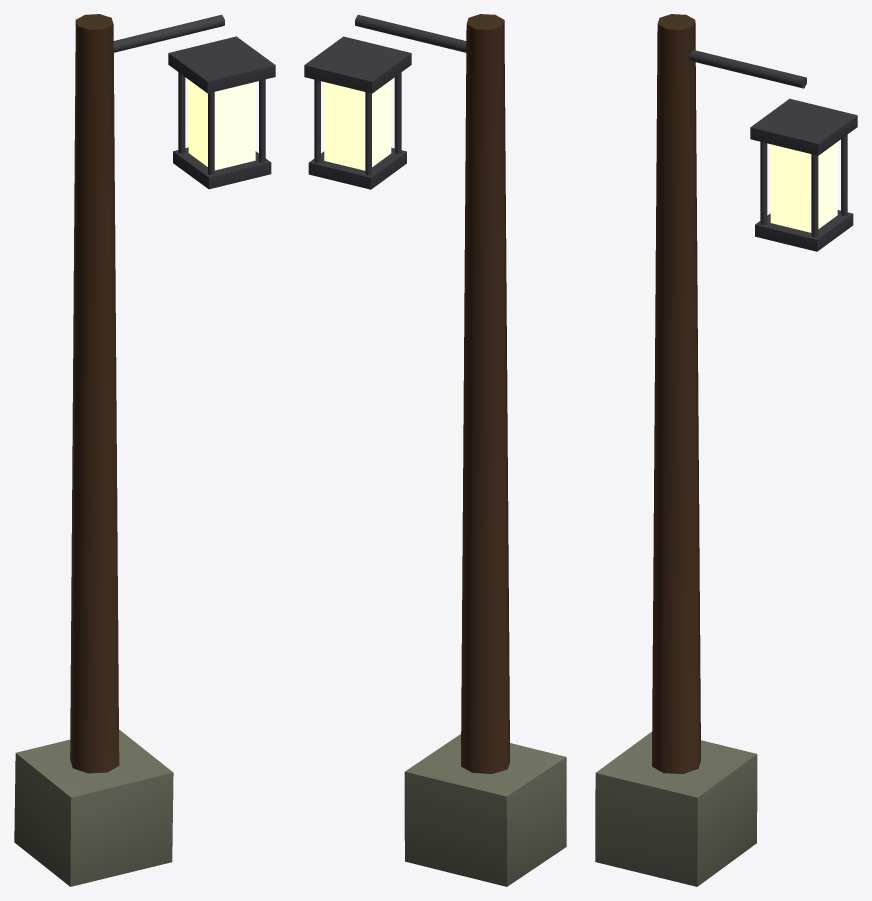
The model's file is lamp_post.glb.
3 views of the same model, side by side, from view 1: azimuth 30°, elevation 25°; view 2: azimuth 150°, elevation 25°; view 3: azimuth 330°, elevation 25° (orthographic).
Parts seen in each view (by area): view 1: lamp_post; view 2: lamp_post; view 3: lamp_post.
Boxes of the visible parts, box(x1,y1,x2,y2) form: lamp_post: box(14, 14, 275, 886); lamp_post: box(304, 14, 566, 886); lamp_post: box(595, 14, 857, 886).
Bounding box in the file's own units: 0.7561 × 2.81 × 0.3566.
